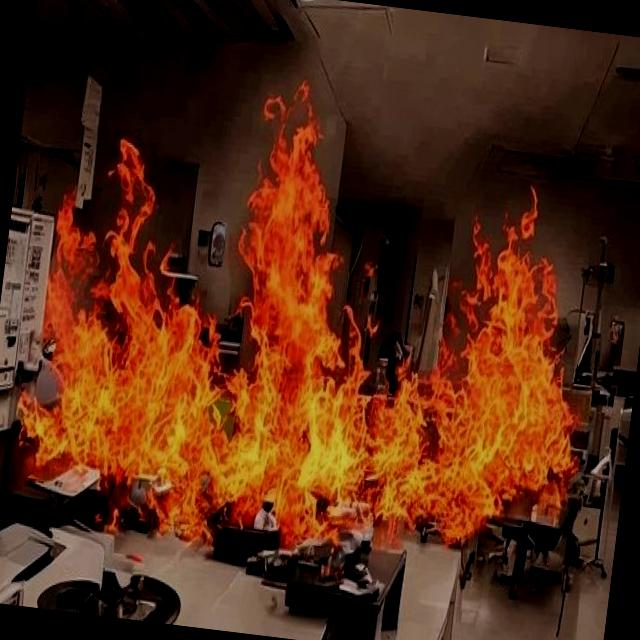fire: (3, 88, 626, 567)
